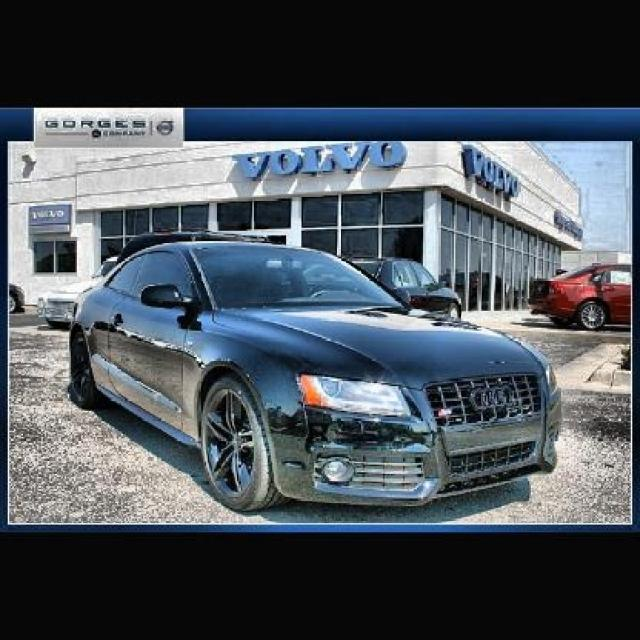black: (66, 235, 564, 519)
maroon: (534, 260, 638, 328)
